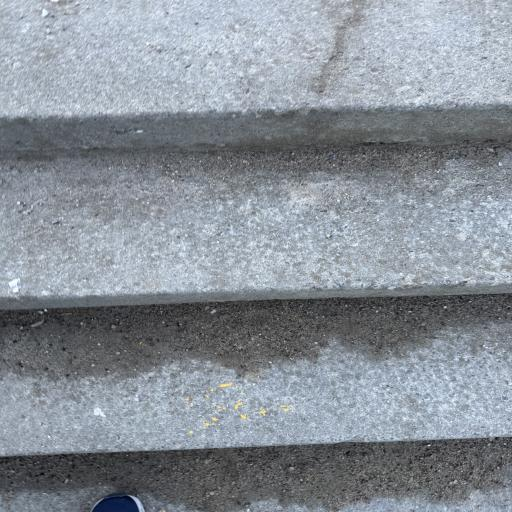Stairs: (0, 0, 512, 512), (0, 144, 512, 309), (0, 294, 512, 456), (0, 0, 512, 155), (0, 438, 512, 512)
